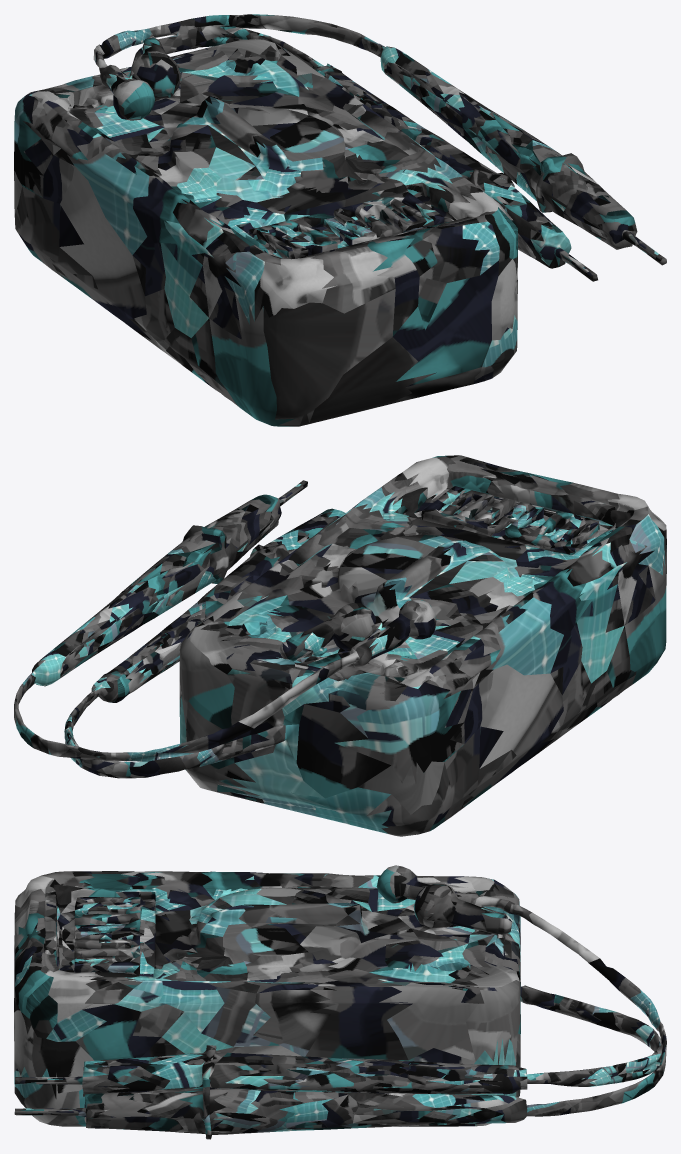
The model's file is Iterbio.fbx.
3 renders of one model, top to bottom at view 1: azimuth 30°, elevation 25°; view 2: azimuth 150°, elevation 25°; view 3: azimuth 270°, elevation 25°, orthographic. The views are drawn at different scales.
Parts seen in each view (by area): view 1: Mesh_0.029; view 2: Mesh_0.029; view 3: Mesh_0.029.
Part boxes in pixels (x1,y1,x2,y2): Mesh_0.029: (14,14,666,426); Mesh_0.029: (14,455,666,836); Mesh_0.029: (14,865,666,1139).
Size of the model in its own units: 2972 by 1309 by 4365.
